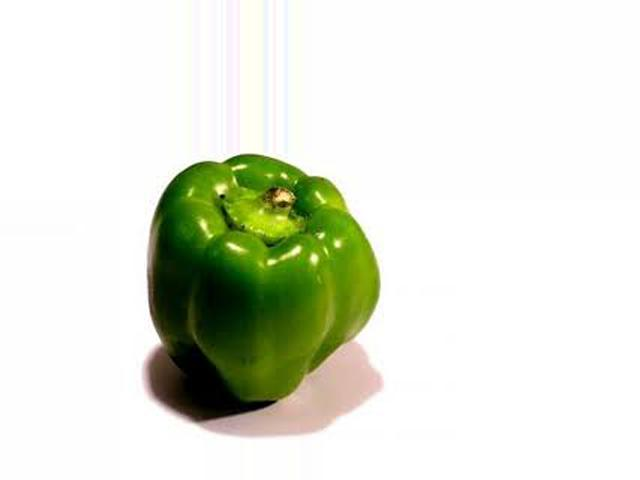bell_pepper: (141, 155, 387, 416)
